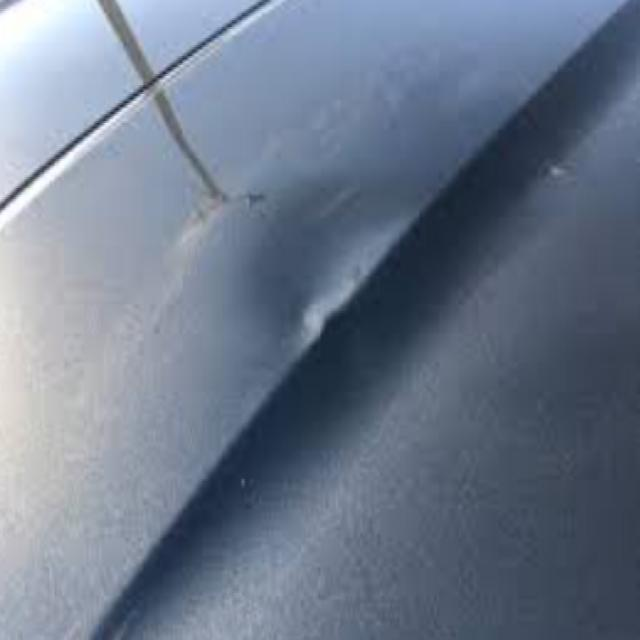dents: (264, 260, 404, 410)
